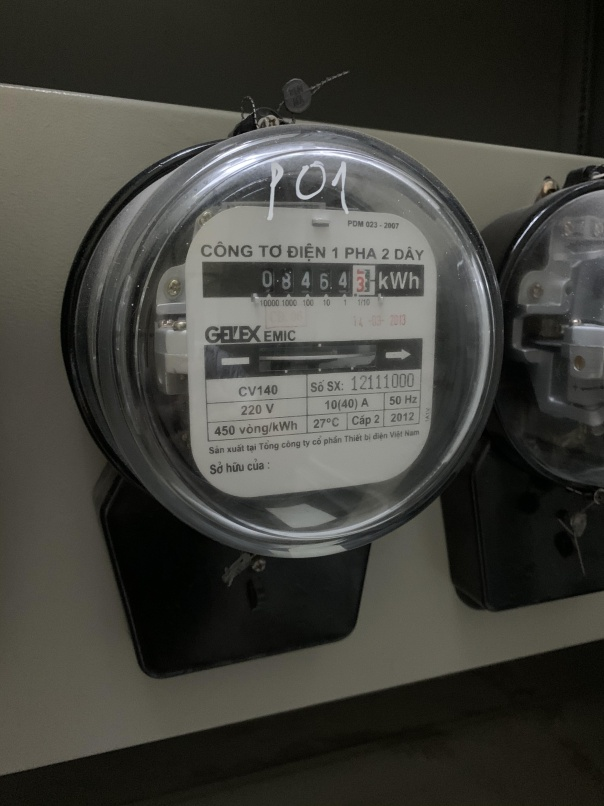counter: (202, 260, 429, 300)
electricity_meter: (101, 129, 503, 555)
